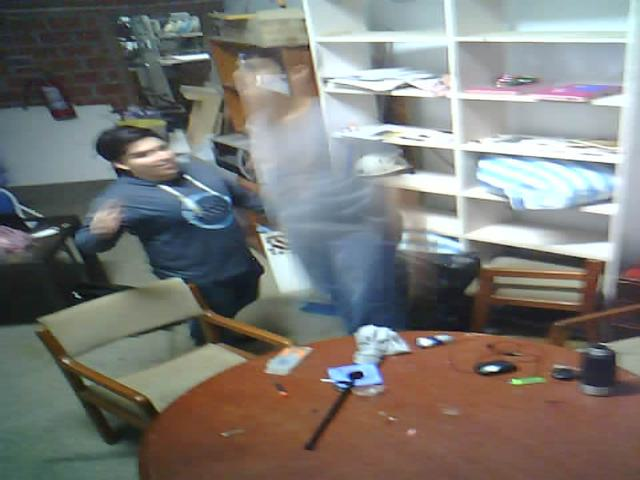person: (233, 25, 434, 353), (47, 86, 264, 377)
